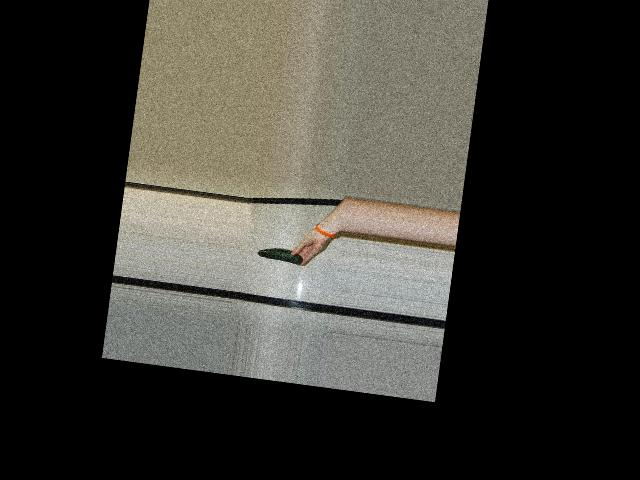cucumber: (256, 246, 304, 265)
